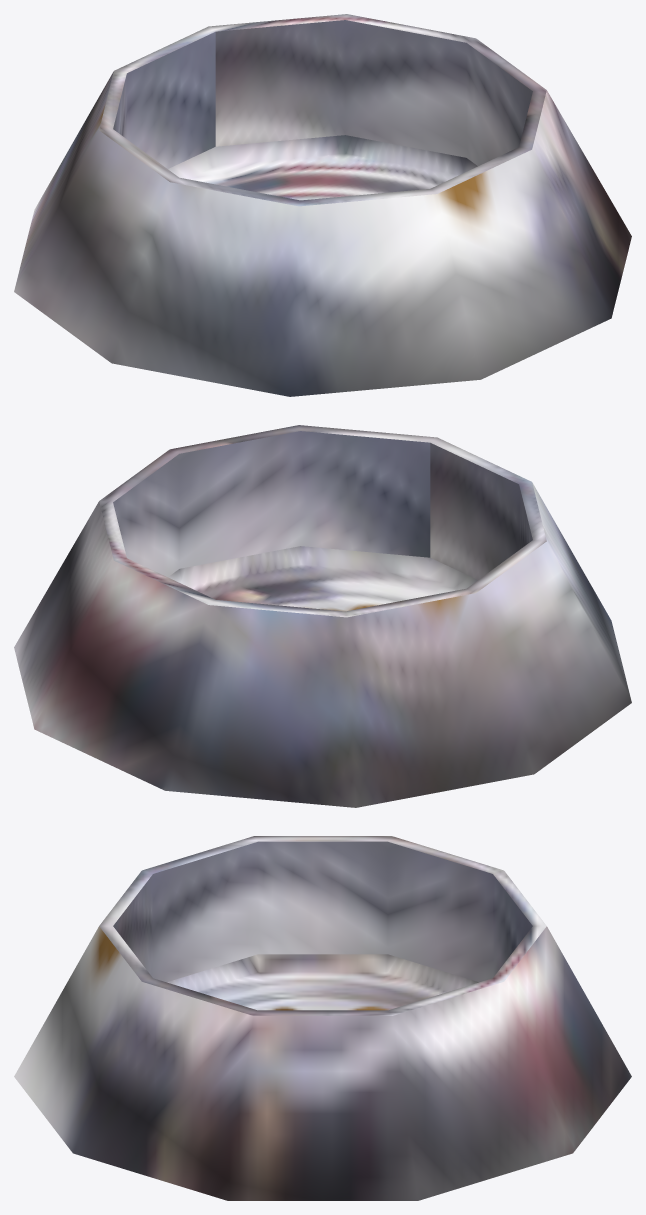
Rendered from dog_food_bowl.FBX.
The picture shows the model from 3 angles, top to bottom: view 1: azimuth 30°, elevation 25°; view 2: azimuth 150°, elevation 25°; view 3: azimuth 270°, elevation 25°; orthographic projection. The views are drawn at different scales.
Visible parts, largest first — view 1: dog_food_bowl; view 2: dog_food_bowl; view 3: dog_food_bowl.
Part boxes in pixels (bbox=[...]): dog_food_bowl: bbox=[14, 14, 631, 396]; dog_food_bowl: bbox=[14, 425, 631, 807]; dog_food_bowl: bbox=[14, 836, 631, 1200].
Size of the model in its own units: 22.44 by 6.34 by 23.6.
